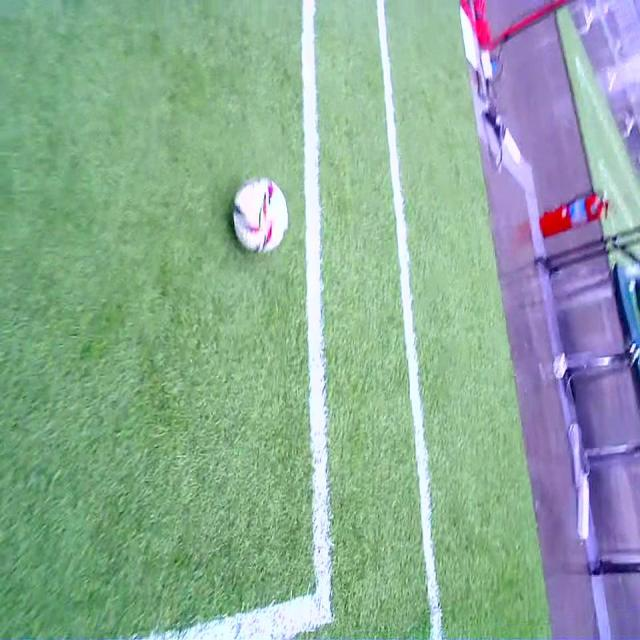ball: (233, 180, 287, 254)
